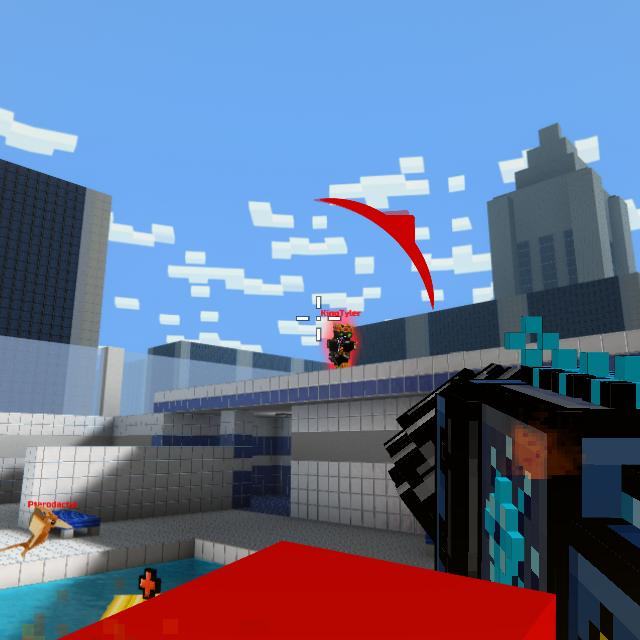Enemy: (328, 324, 357, 367)
